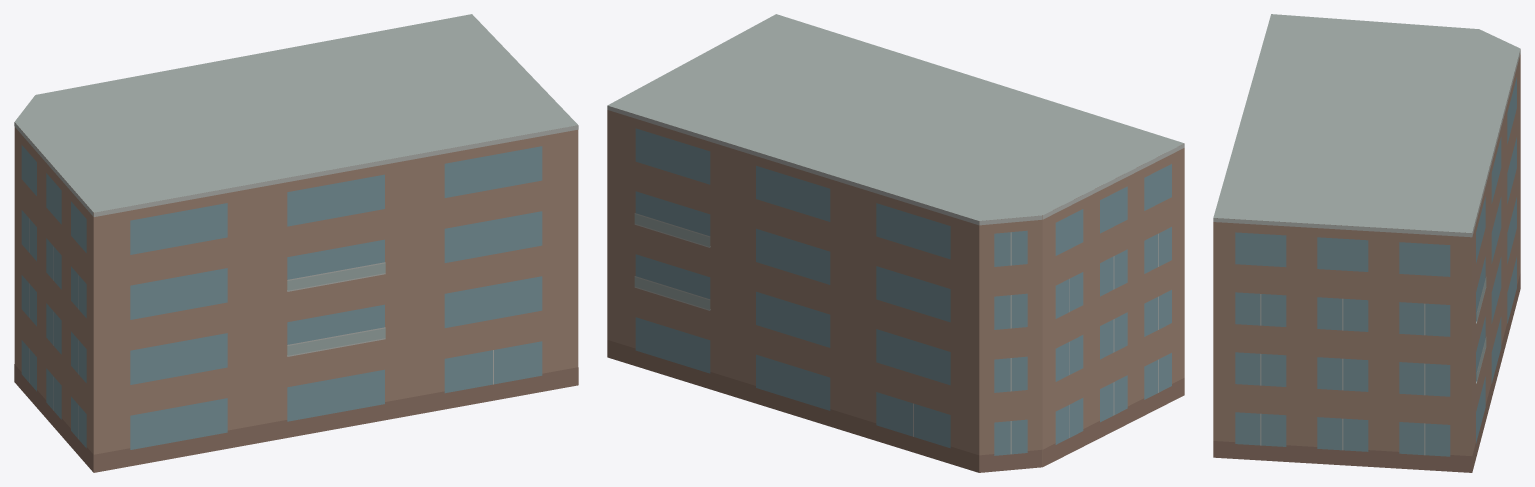
File: survey-upis-32487725.glb
3 renders of one model, left to right at view 1: azimuth 30°, elevation 25°; view 2: azimuth 150°, elevation 25°; view 3: azimuth 270°, elevation 25°, orthographic. The views are drawn at different scales.
Parts seen in each view (by area): view 1: survey-upis-32487725.tmp; view 2: survey-upis-32487725.tmp; view 3: survey-upis-32487725.tmp.
Boxes of the visible parts, x1,y1,x2,y2 form: survey-upis-32487725.tmp: (14,14,578,472); survey-upis-32487725.tmp: (607,14,1184,472); survey-upis-32487725.tmp: (1213,14,1520,472).
Bounding box in the file's own units: 27.95 × 14.25 × 16.57.
